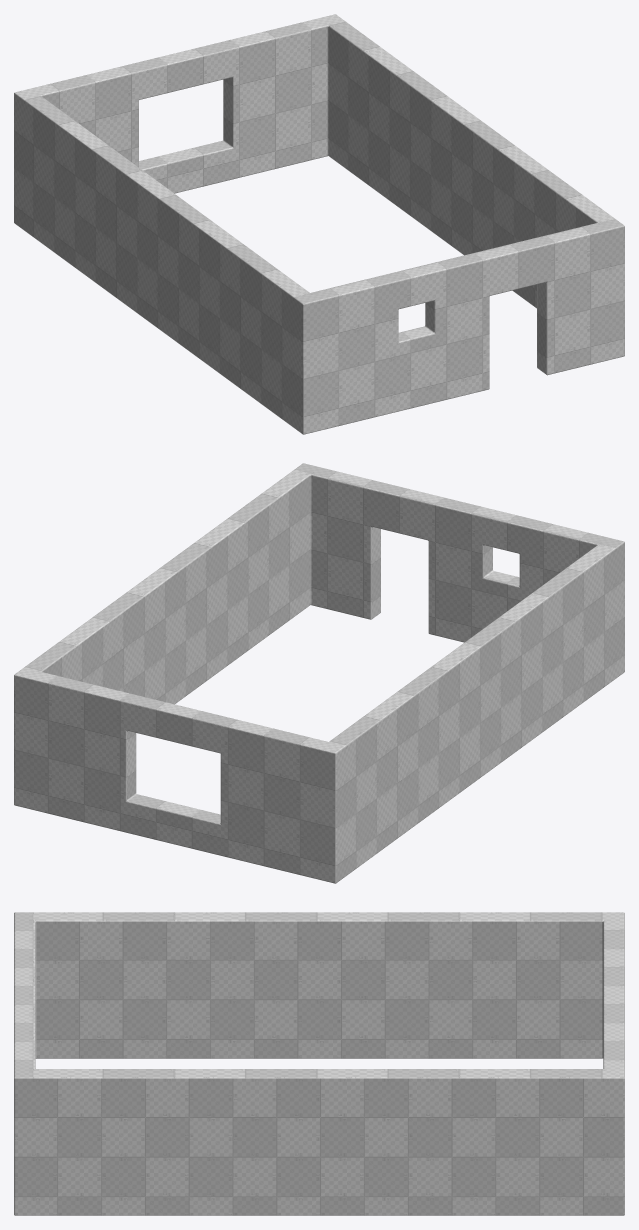
Rendered from House.obj.
3 views of the same model, one above another, from view 1: azimuth 30°, elevation 25°; view 2: azimuth 150°, elevation 25°; view 3: azimuth 270°, elevation 25° (orthographic). The views are drawn at different scales.
Parts seen in each view (by area): view 1: Cube.019; view 2: Cube.019; view 3: Cube.019.
Boxes of the visible parts, x1,y1,x2,y2 form: Cube.019: [14, 14, 624, 434]; Cube.019: [14, 463, 624, 883]; Cube.019: [14, 912, 624, 1215].
Size of the model in its own units: 8.99 by 3.49 by 13.98.
